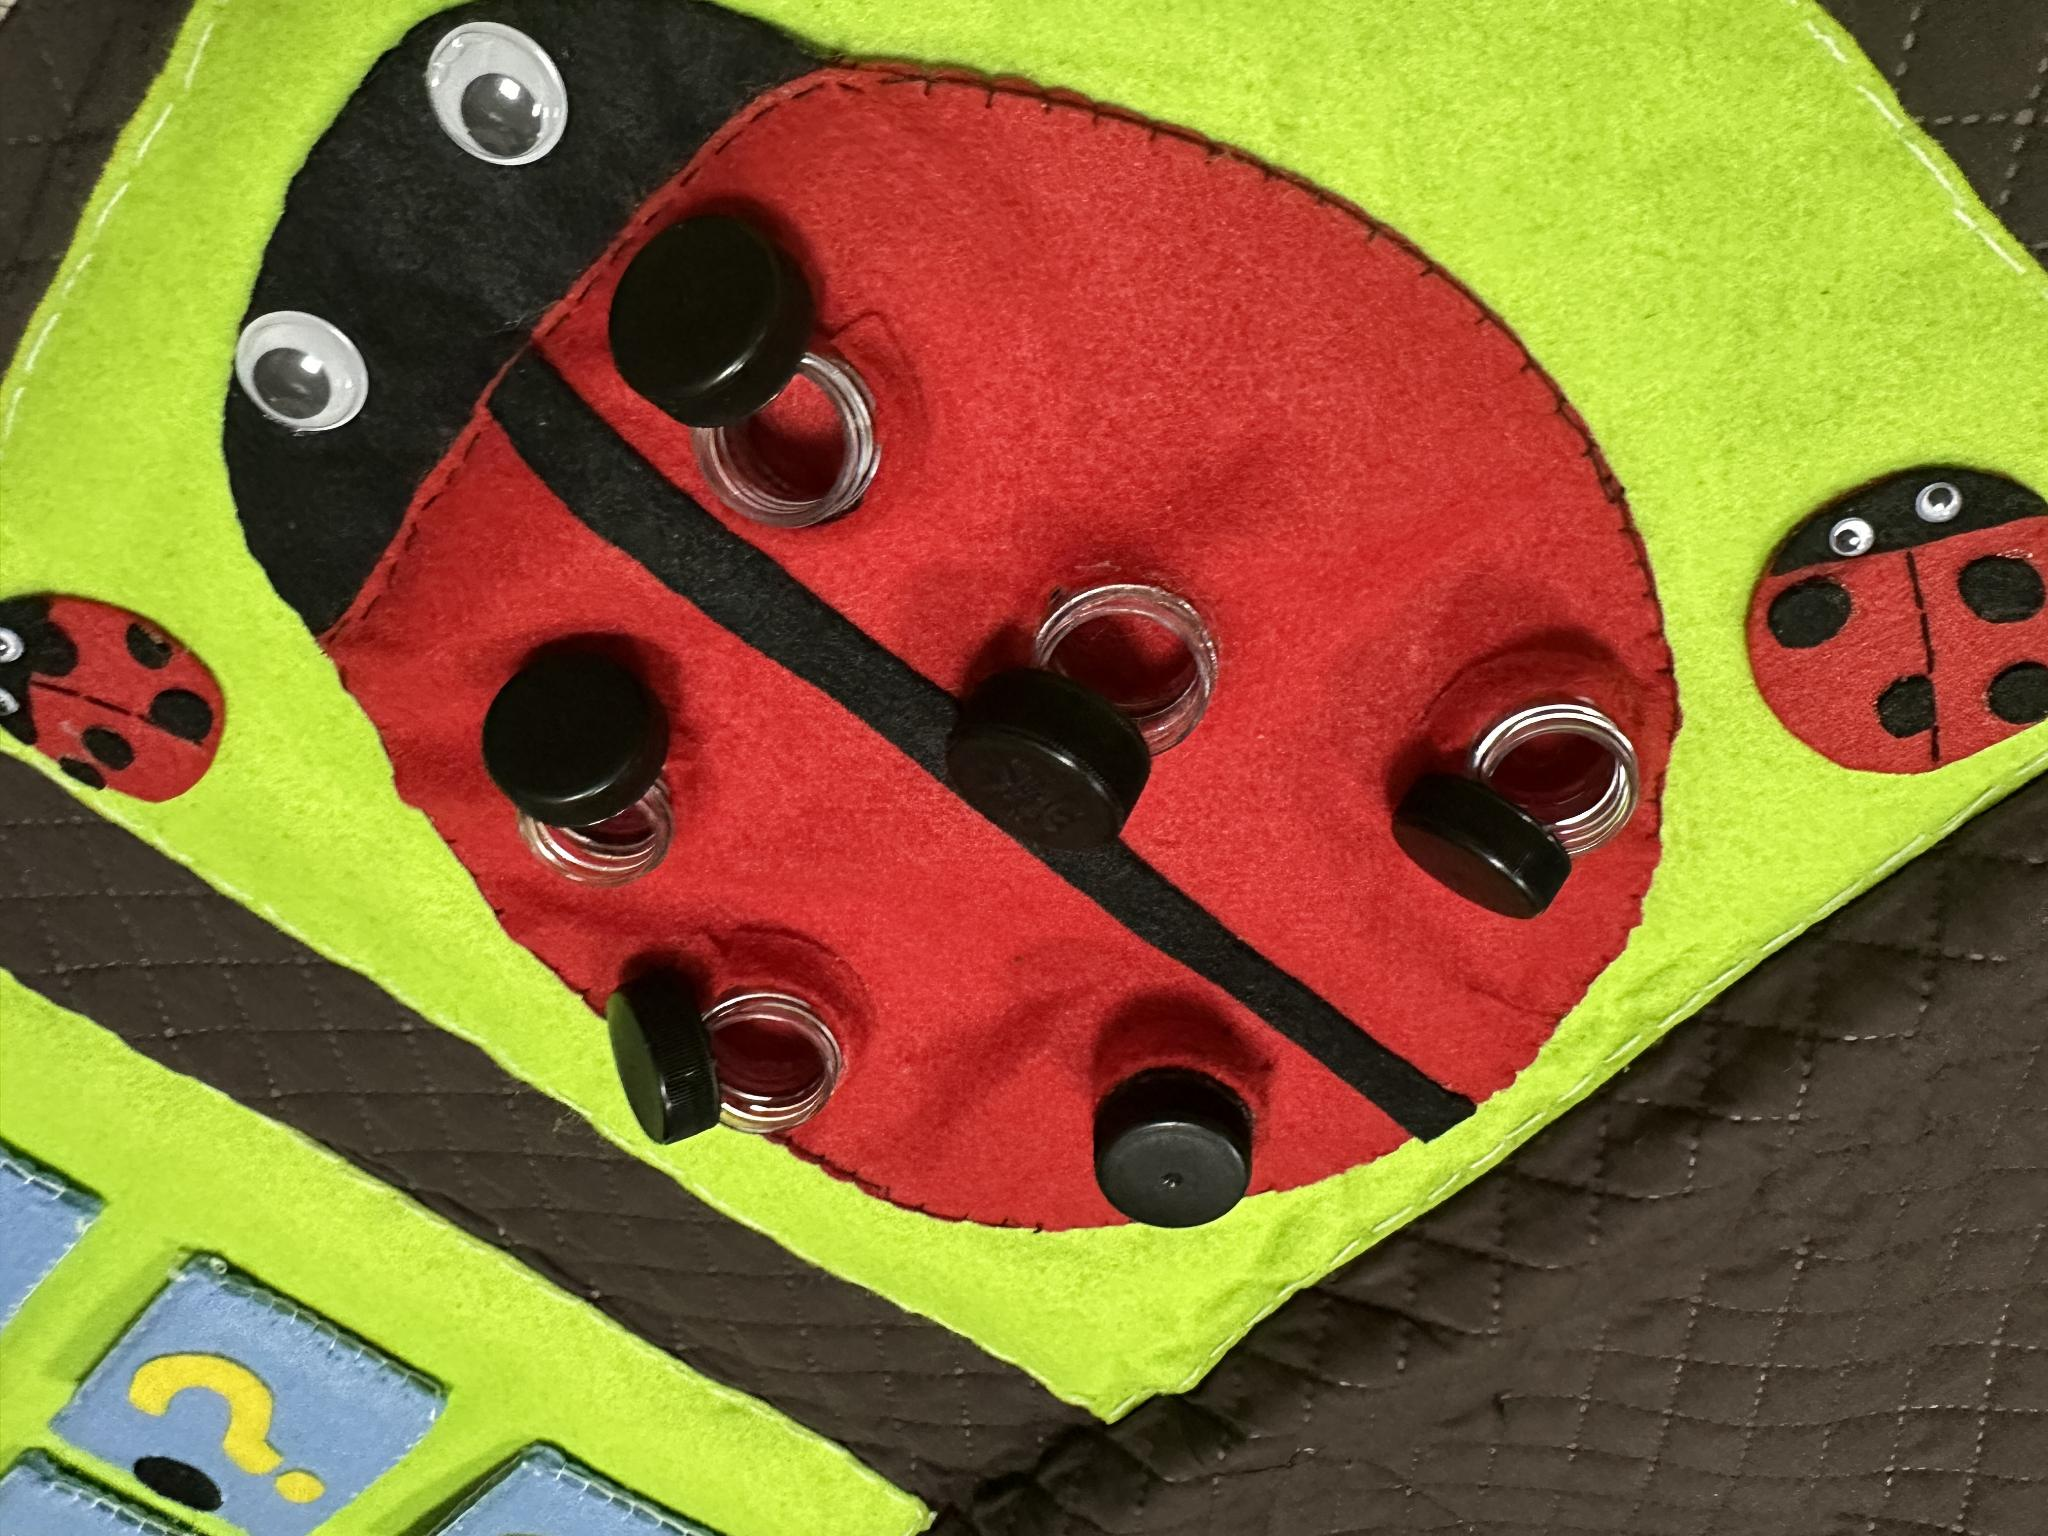cap_ng: (618, 213, 905, 549), (943, 547, 1235, 863), (1395, 641, 1653, 912), (605, 915, 876, 1171), (469, 629, 705, 900)
cap_ok: (1074, 1021, 1277, 1238)
